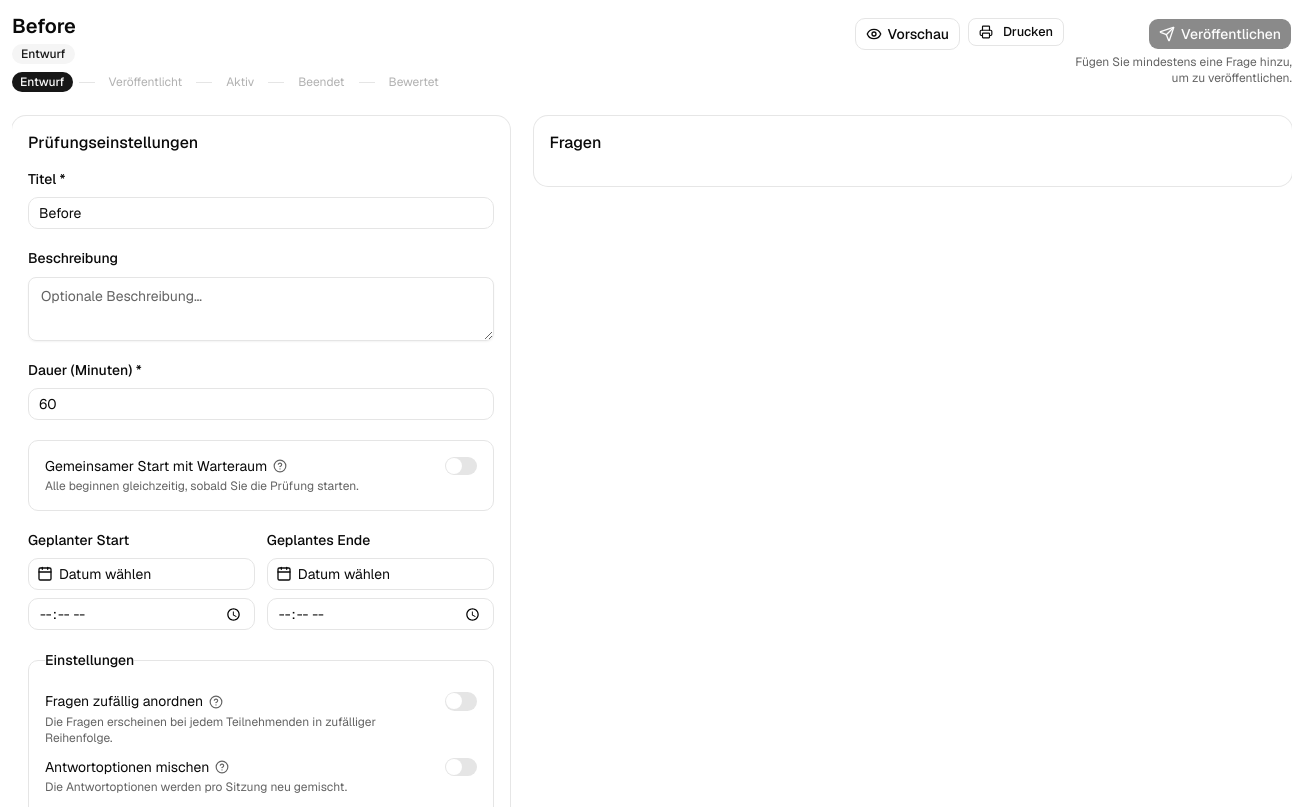
Test: does not report a failed save for a validation-only failure
Clear the field labelled "Titel *" at point(261, 213), box [28,197,494,229]
Wait 700 ms
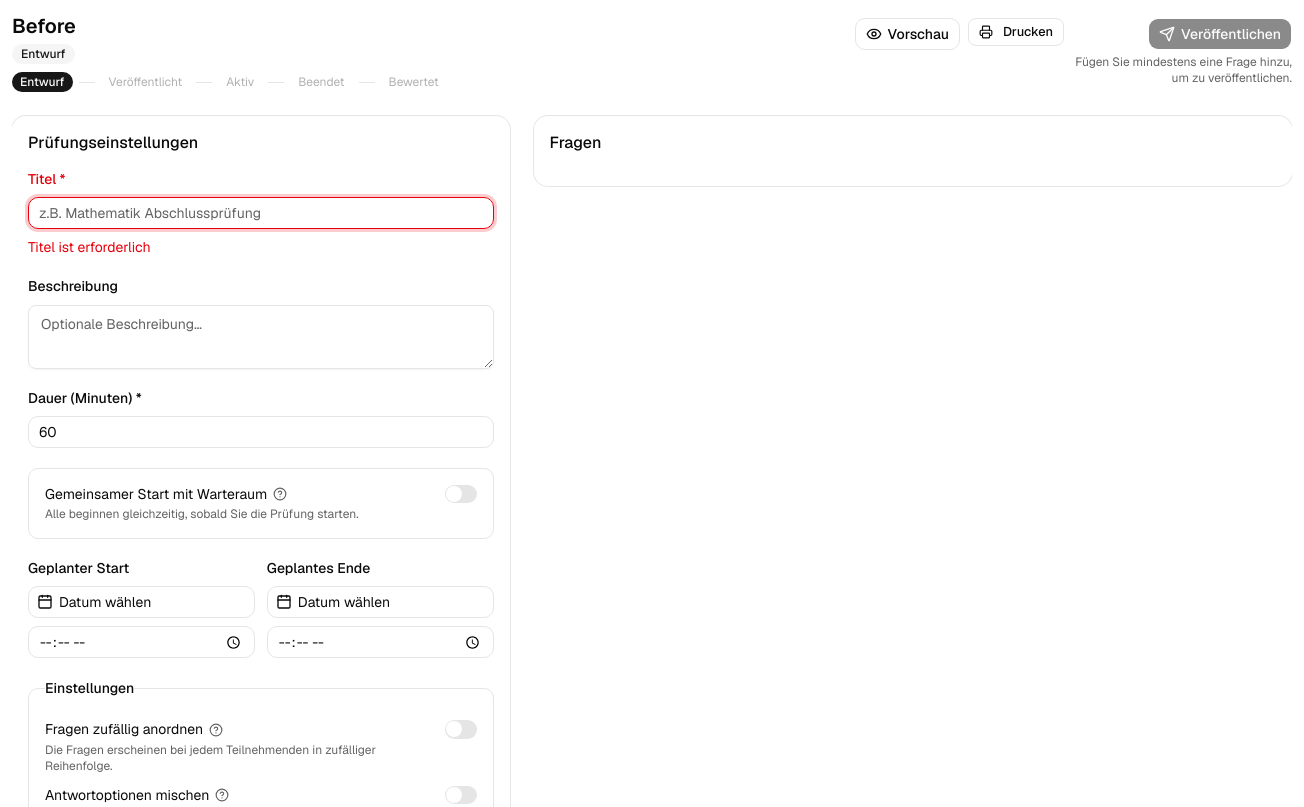
Expected: the text "Titel ist erforderlich" is shown, [28,238,151,256]
